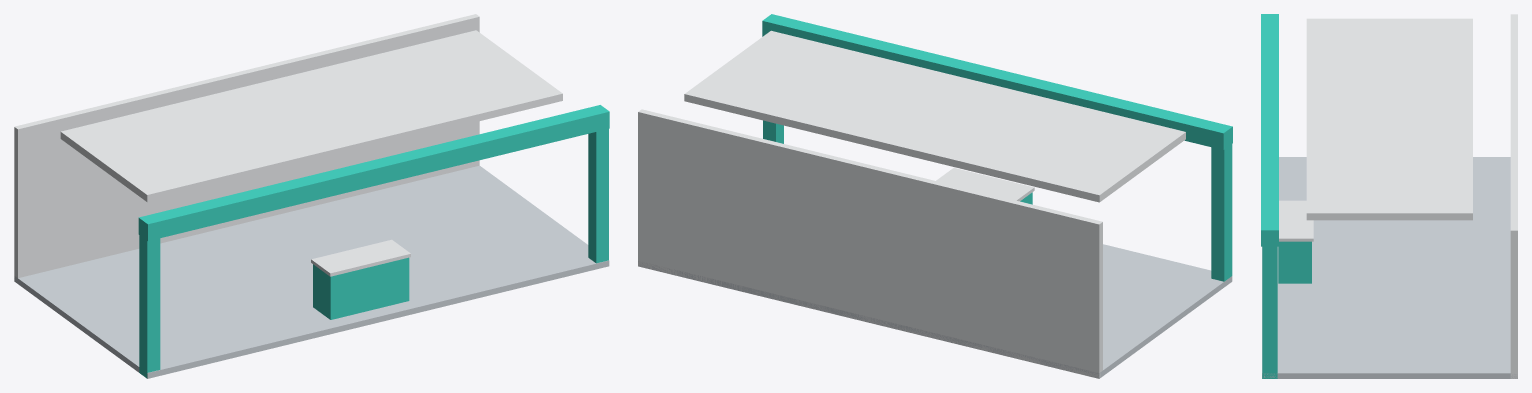
3 renders of one model, left to right at view 1: azimuth 30°, elevation 25°; view 2: azimuth 150°, elevation 25°; view 3: azimuth 270°, elevation 25°, orthographic. The views are drawn at different scales.
Visible parts, largest first — view 1: Exhibition Booth Concept; view 2: Exhibition Booth Concept; view 3: Exhibition Booth Concept.
Boxes of the visible parts, x1,y1,x2,y2 form: Exhibition Booth Concept: (14,14,609,378); Exhibition Booth Concept: (638,14,1232,378); Exhibition Booth Concept: (1261,14,1517,378).
Bounding box in the file's own units: 10 × 3.34 × 5.02.
